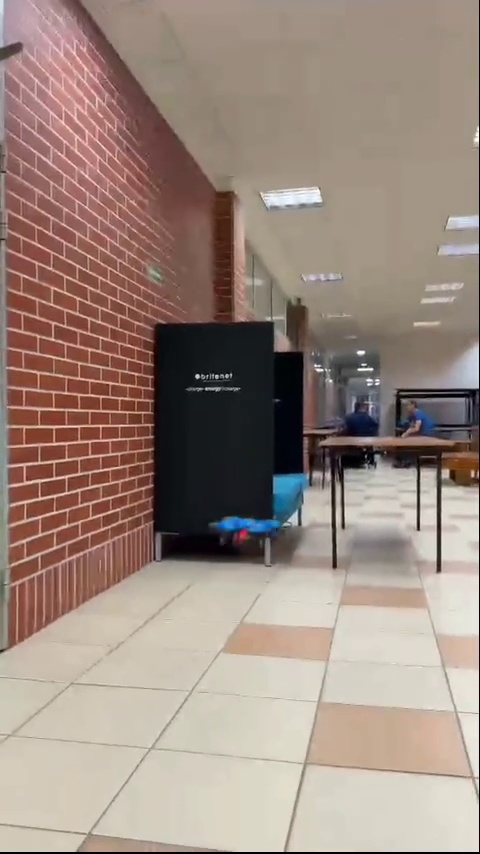drone: (219, 510, 279, 549)
no vest: (334, 391, 377, 439), (391, 396, 436, 439)
